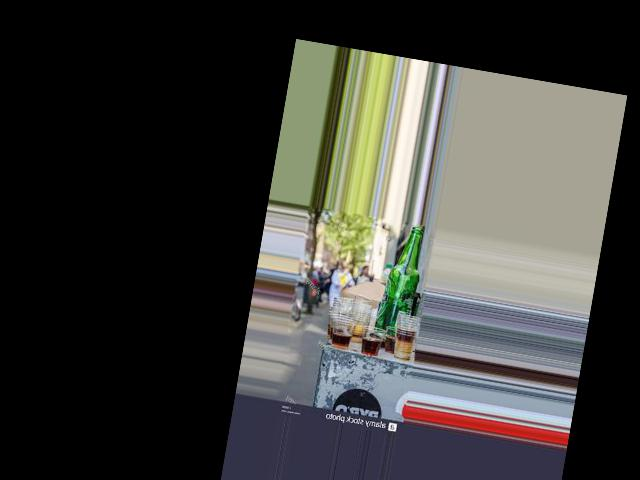beer: (371, 223, 427, 348)
